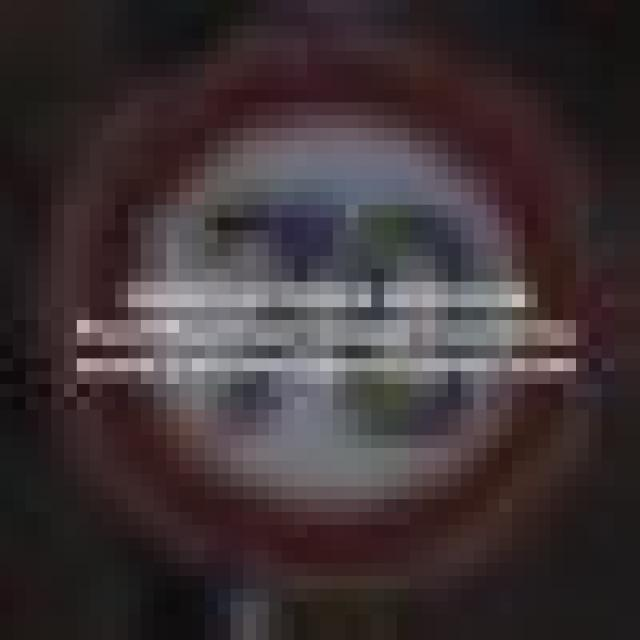SPEED_LIMIT_70: (38, 39, 589, 564)
